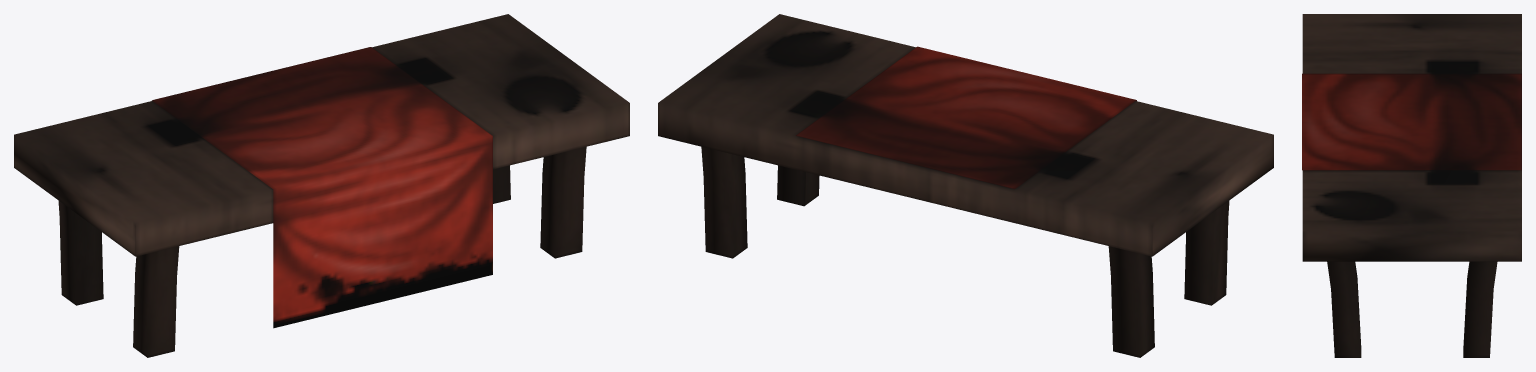
Rendered from display table.fbx.
3 renders of one model, left to right at view 1: azimuth 30°, elevation 25°; view 2: azimuth 150°, elevation 25°; view 3: azimuth 270°, elevation 25°, orthographic. The views are drawn at different scales.
Parts seen in each view (by area): view 1: Front_table; view 2: Front_table; view 3: Front_table.
Part boxes in pixels (x1,y1,x2,y2): Front_table: (14, 14, 629, 357); Front_table: (658, 14, 1273, 357); Front_table: (1302, 14, 1521, 357).
Size of the model in its own units: 2.98 by 0.8954 by 1.27.
